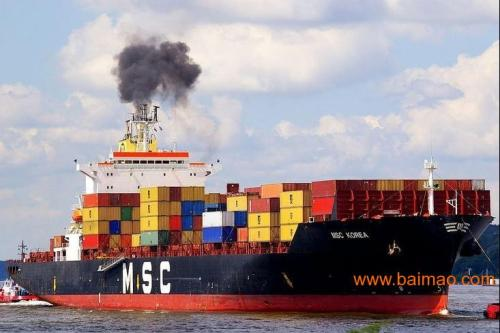Cargoship: (9, 101, 492, 323)
